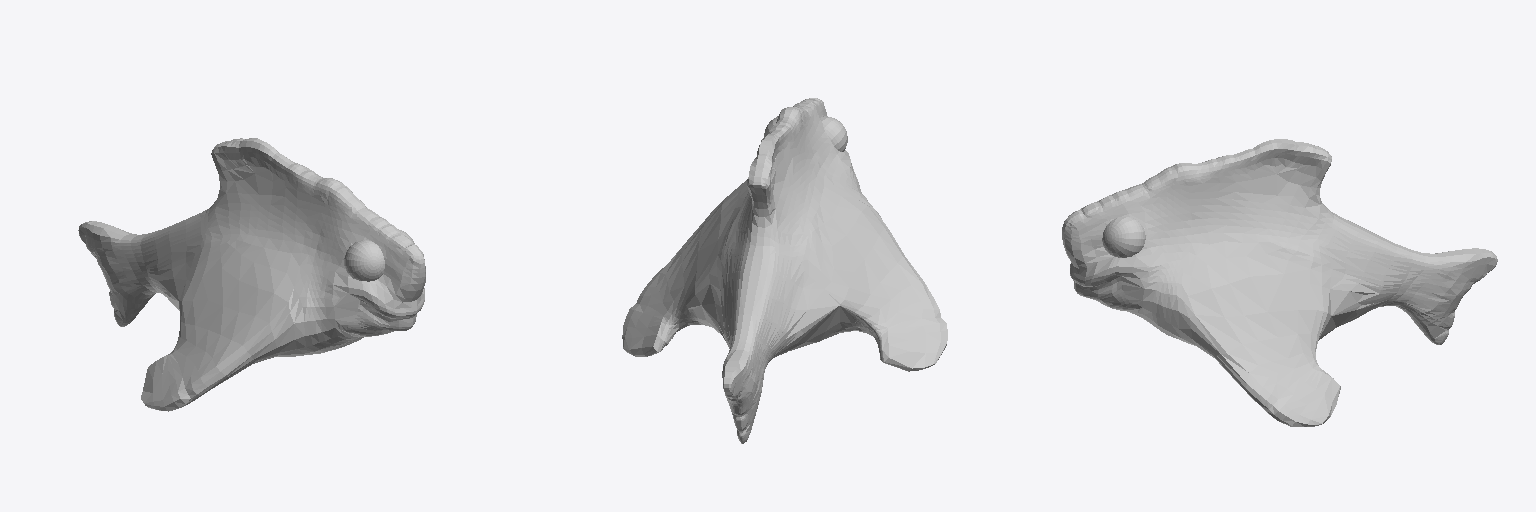
File: Fish.obj
The picture shows the model from 3 angles: view 1: azimuth 30°, elevation 25°; view 2: azimuth 150°, elevation 25°; view 3: azimuth 270°, elevation 25°; orthographic projection.
Parts seen in each view (by area): view 1: Fish_Body Fish Scene, Fish Scene R_Eye; view 2: Fish_Body Fish Scene, Fish Scene R_Eye; view 3: Fish_Body Fish Scene, Fish Scene L_Eye.
Boxes of the visible parts, x1,y1,x2,y2 form: Fish_Body Fish Scene: [78, 138, 425, 411]; Fish Scene R_Eye: [344, 240, 384, 281]; Fish_Body Fish Scene: [622, 98, 947, 443]; Fish Scene R_Eye: [821, 116, 847, 151]; Fish_Body Fish Scene: [1062, 139, 1497, 426]; Fish Scene L_Eye: [1102, 217, 1145, 257].
Bounding box in the file's own units: 1.74 × 1.39 × 2.36.